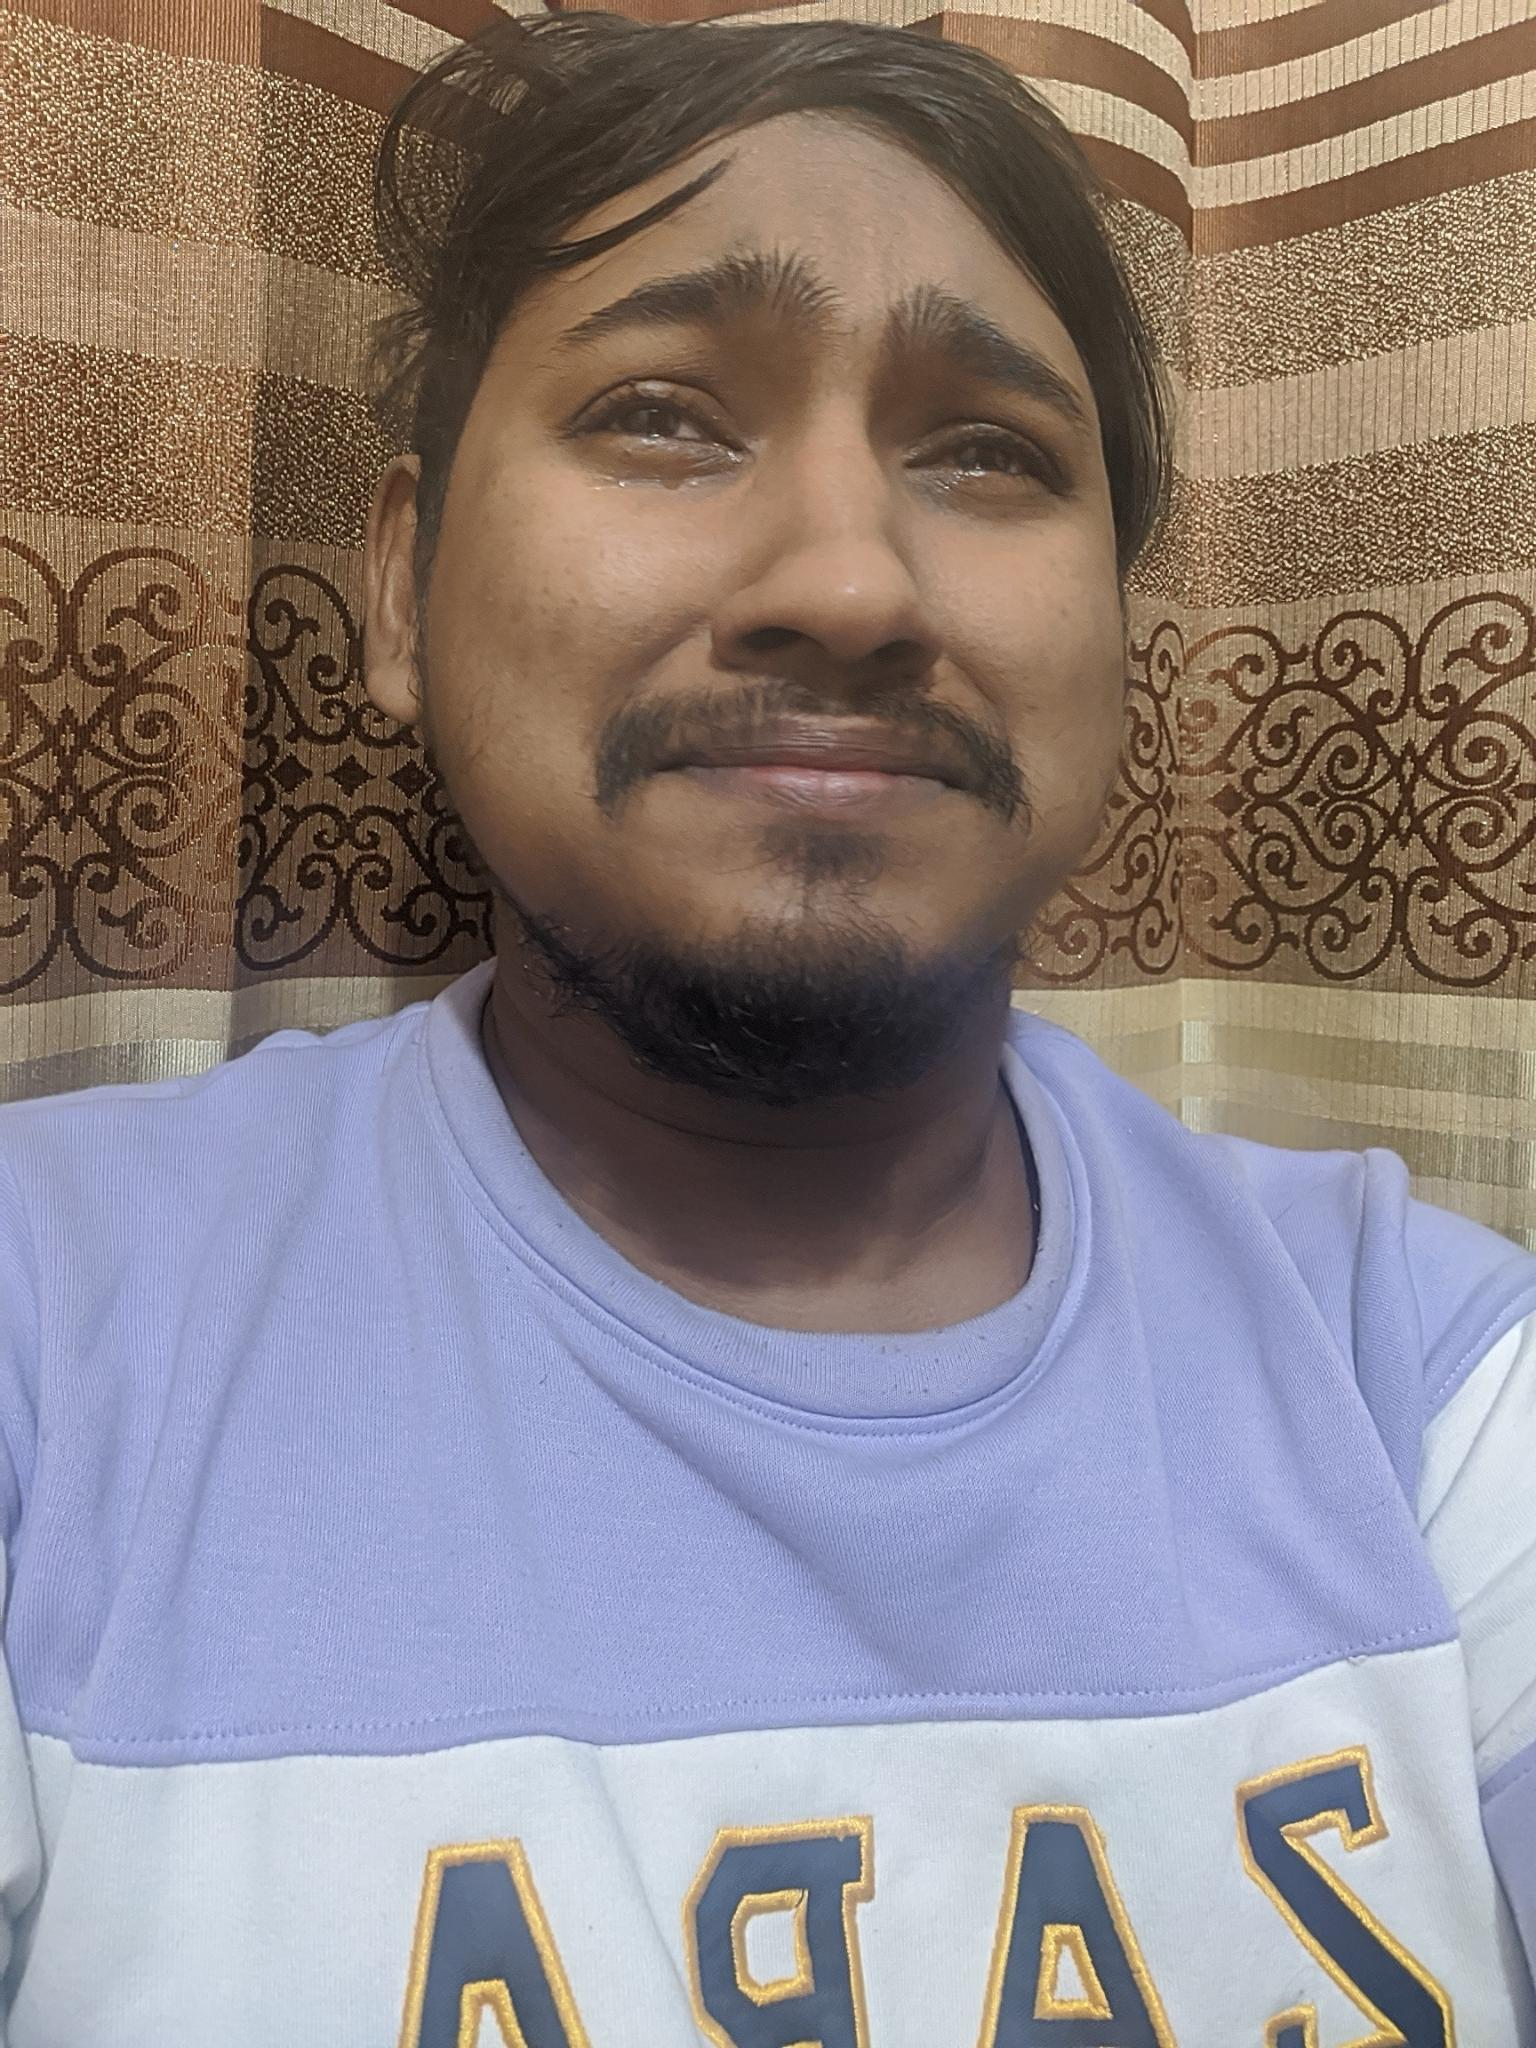Sad: (494, 156, 1126, 1027)
